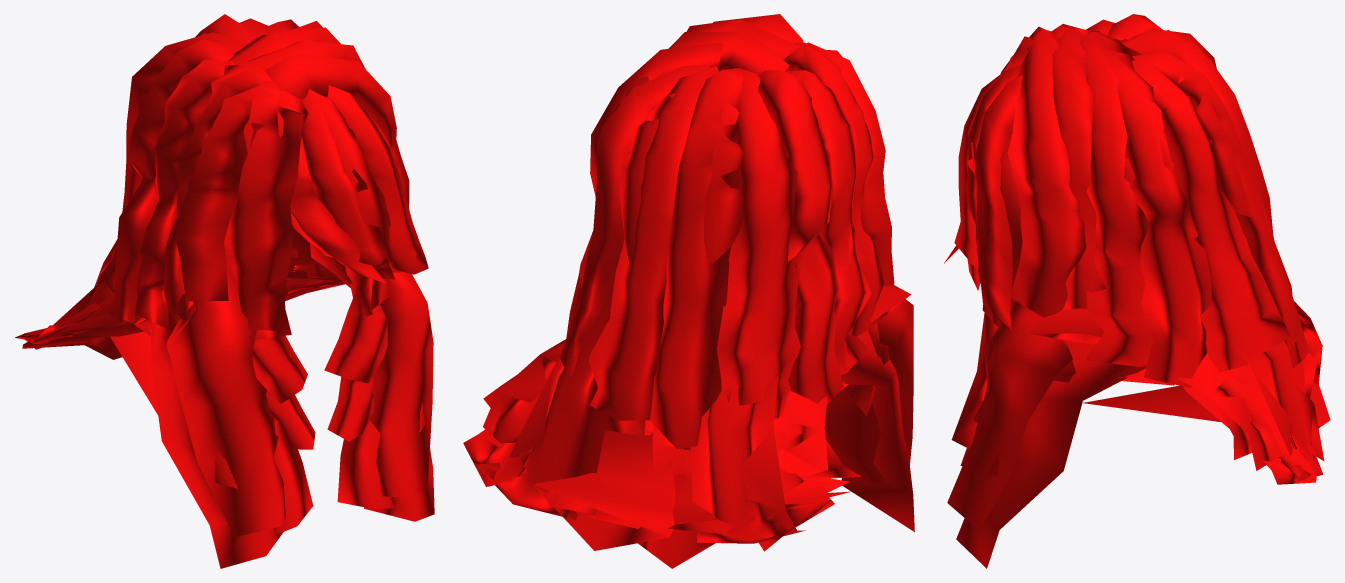
File: punkduck_alpha7_long2_M.glb
3 renders of one model, left to right at view 1: azimuth 30°, elevation 25°; view 2: azimuth 150°, elevation 25°; view 3: azimuth 270°, elevation 25°, orthographic. The views are drawn at different scales.
Bounding box in the file's own units: 0.4115 × 0.5319 × 0.3834.
1 material, 1 textured.
